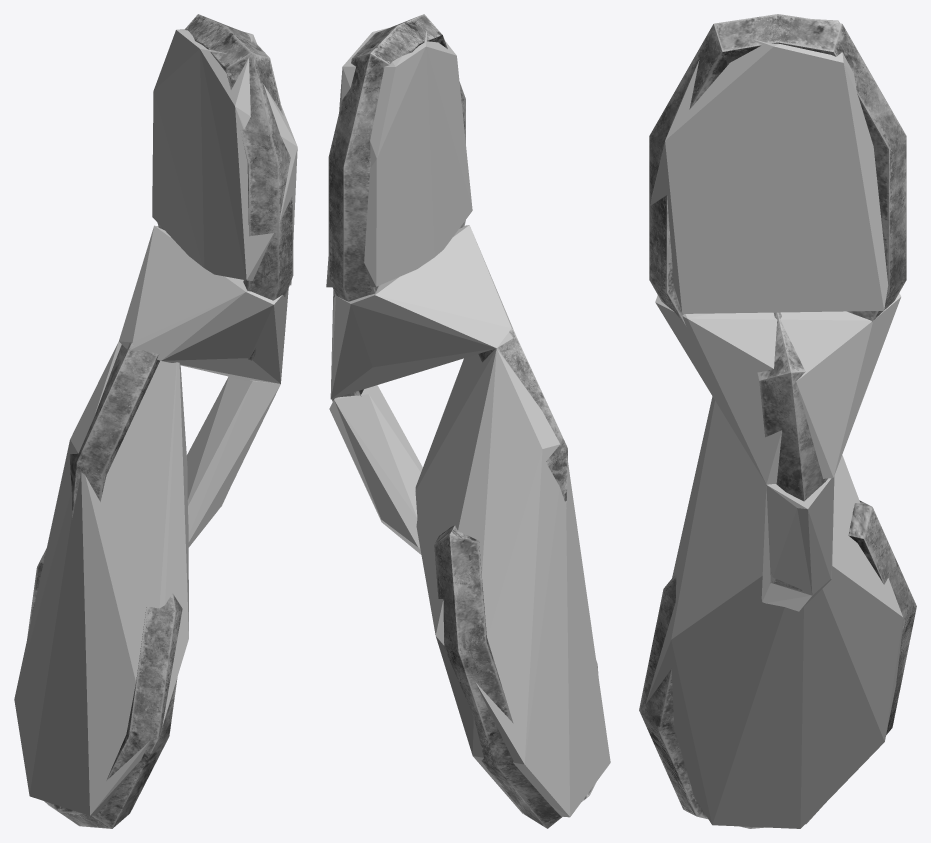
3 renders of one model, left to right at view 1: azimuth 30°, elevation 25°; view 2: azimuth 150°, elevation 25°; view 3: azimuth 270°, elevation 25°, orthographic. The views are drawn at different scales.
Visible parts, largest first — view 1: SM_23_ConvexHulls, SM_23; view 2: SM_23_ConvexHulls, SM_23; view 3: SM_23_ConvexHulls, SM_23.
Boxes of the visible parts, x1,y1,x2,y2 form: SM_23_ConvexHulls: (14, 29, 297, 815); SM_23: (27, 14, 293, 828); SM_23_ConvexHulls: (326, 27, 610, 817); SM_23: (328, 14, 598, 828); SM_23_ConvexHulls: (646, 19, 903, 828); SM_23: (639, 14, 916, 828).
Size of the model in its own units: 32.37 by 26.84 by 96.1.
Materials: 2 (1 with a texture image).
